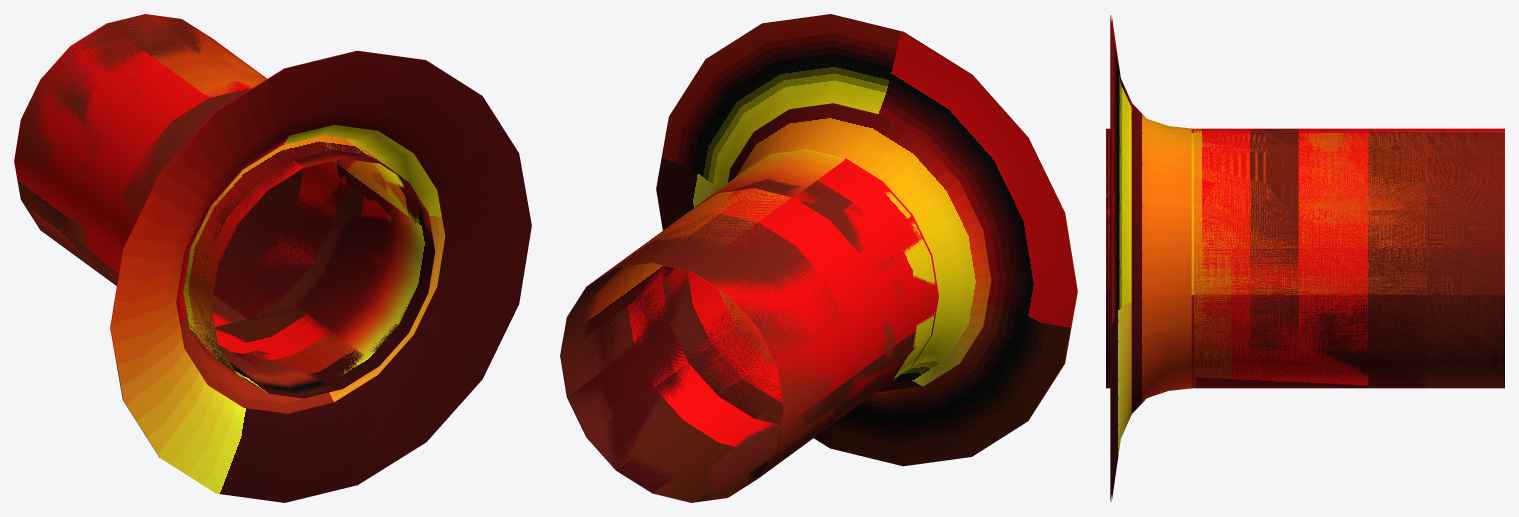
The picture shows the model from 3 angles, left to right: view 1: azimuth 30°, elevation 25°; view 2: azimuth 150°, elevation 25°; view 3: azimuth 270°, elevation 25°; orthographic projection.
Visible parts, largest first — view 1: FX_circle_w_017, FX_circle_w_018, FX_circle_w_016, FX_circle_w_015, FX_circle_w_019; view 2: FX_circle_w_018, FX_circle_w_017, FX_circle_w_019, FX_circle_w_015, FX_circle_w_016; view 3: FX_circle_w_017, FX_circle_w_018, FX_circle_w_016, FX_circle_w_019, FX_circle_w_015.
Boxes of the visible parts, left/top/right/bottom form: FX_circle_w_017: left=15, top=15, right=531, bottom=502; FX_circle_w_018: left=14, top=14, right=445, bottom=457; FX_circle_w_016: left=117, top=89, right=435, bottom=398; FX_circle_w_015: left=118, top=88, right=434, bottom=398; FX_circle_w_019: left=53, top=44, right=379, bottom=356; FX_circle_w_018: left=560, top=14, right=1077, bottom=502; FX_circle_w_017: left=560, top=14, right=1077, bottom=502; FX_circle_w_019: left=599, top=191, right=936, bottom=474; FX_circle_w_015: left=662, top=150, right=937, bottom=424; FX_circle_w_016: left=662, top=151, right=924, bottom=421; FX_circle_w_017: left=1110, top=15, right=1503, bottom=501; FX_circle_w_018: left=1111, top=15, right=1504, bottom=501; FX_circle_w_016: left=1106, top=128, right=1298, bottom=388; FX_circle_w_019: left=1194, top=128, right=1426, bottom=388; FX_circle_w_015: left=1106, top=128, right=1298, bottom=388.
Size of the model in its own units: 3272 by 3223 by 2658.
